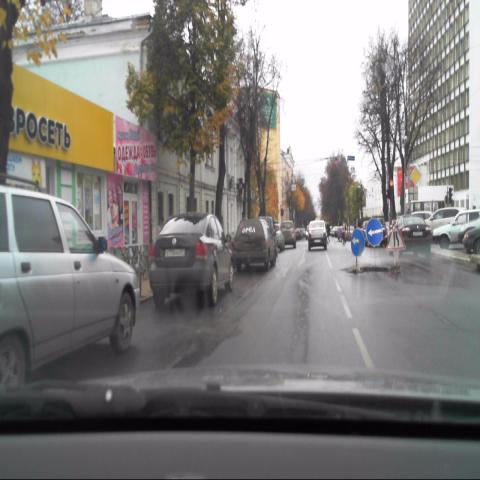4_1_2_2: (366, 216, 382, 247), (350, 229, 365, 258)
